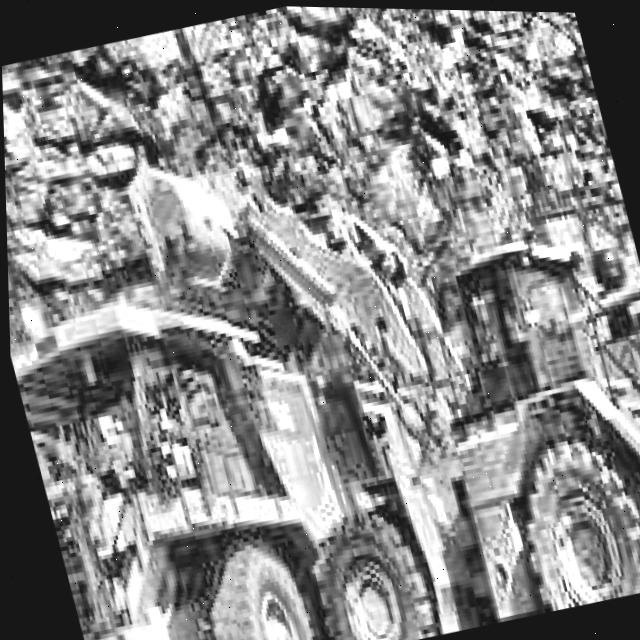dump_truck: (5, 222, 381, 640)
